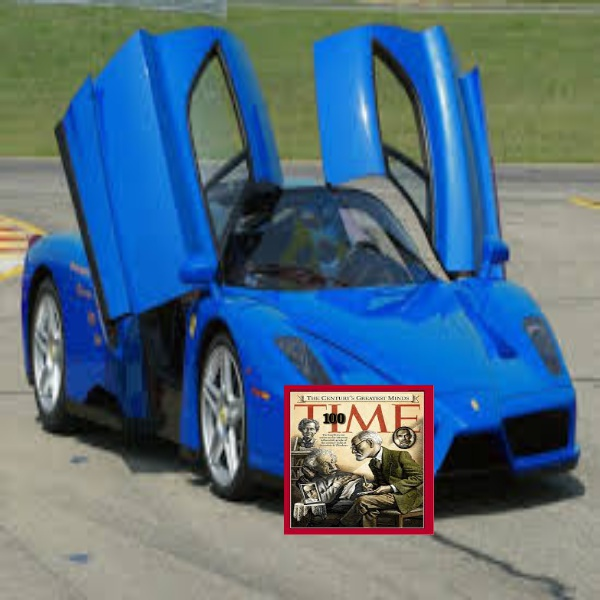time_cover: (284, 368, 434, 535)
